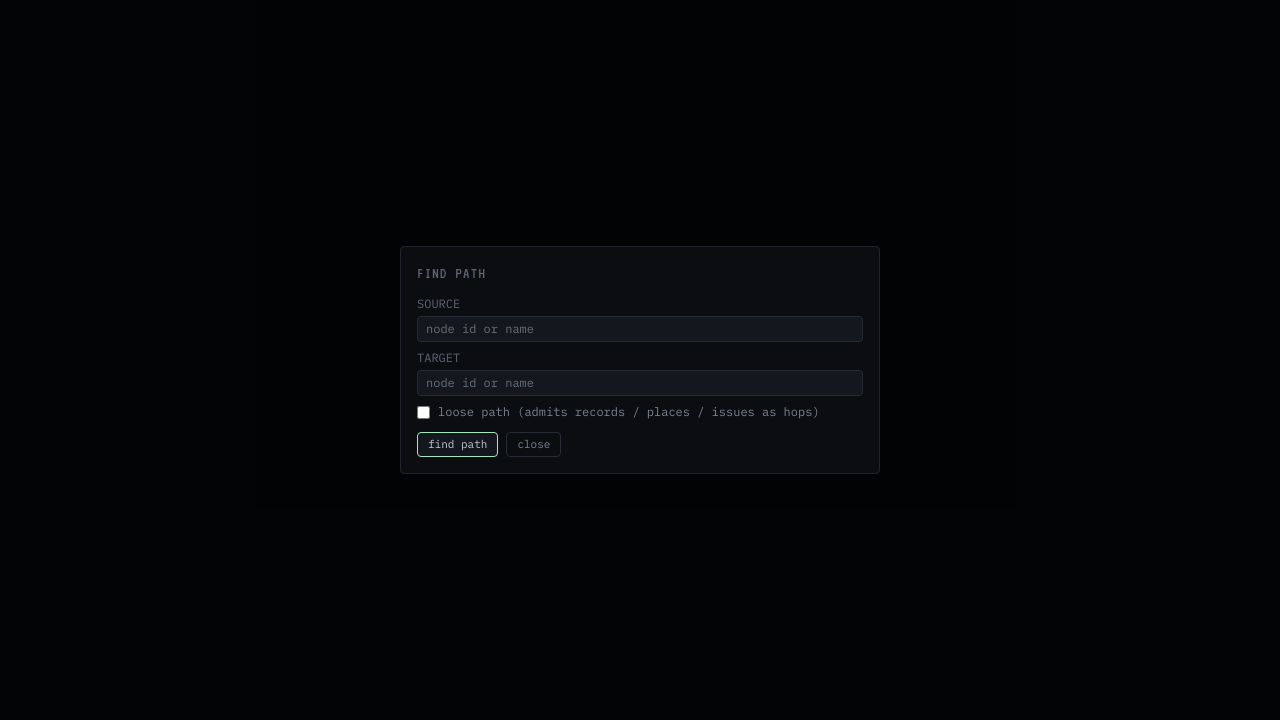
Scenario: PathDialog › shows no-path message when server returns found=false
Type "a" into the field labelled "source" at (640, 329), box [417,316,863,342]
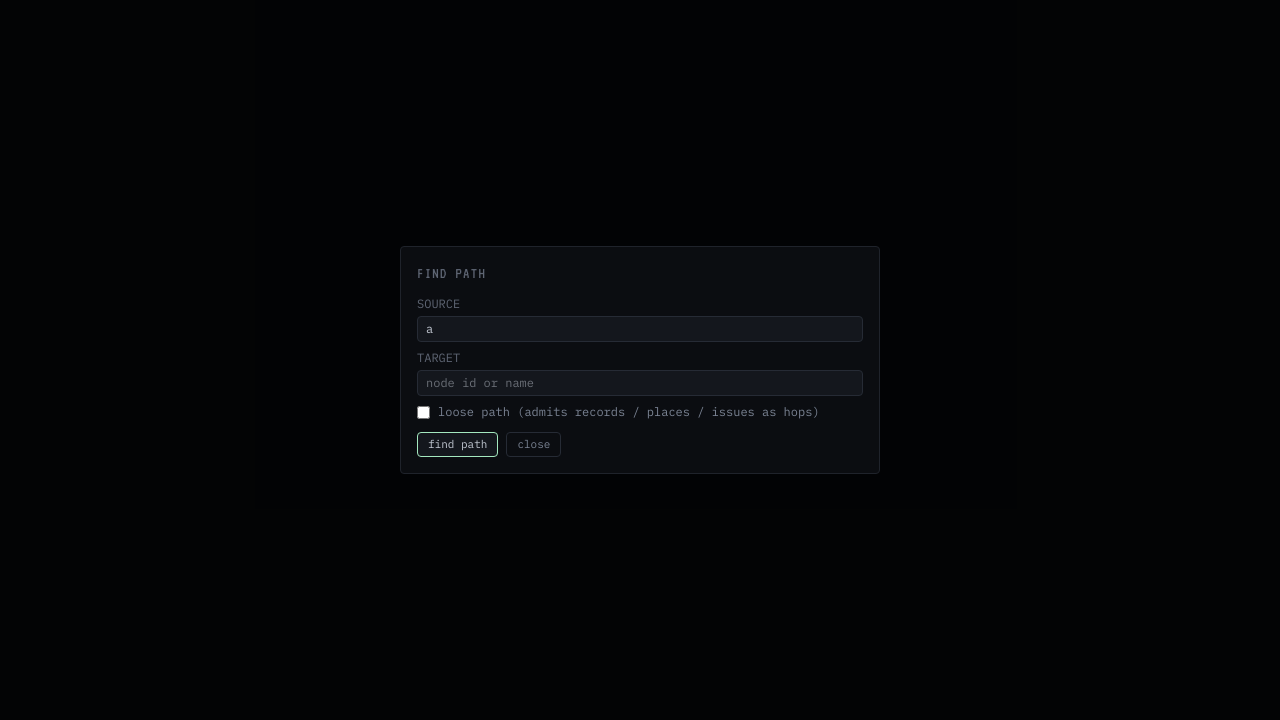
Type "b" into the field labelled "target" at (640, 383), box [417,370,863,396]
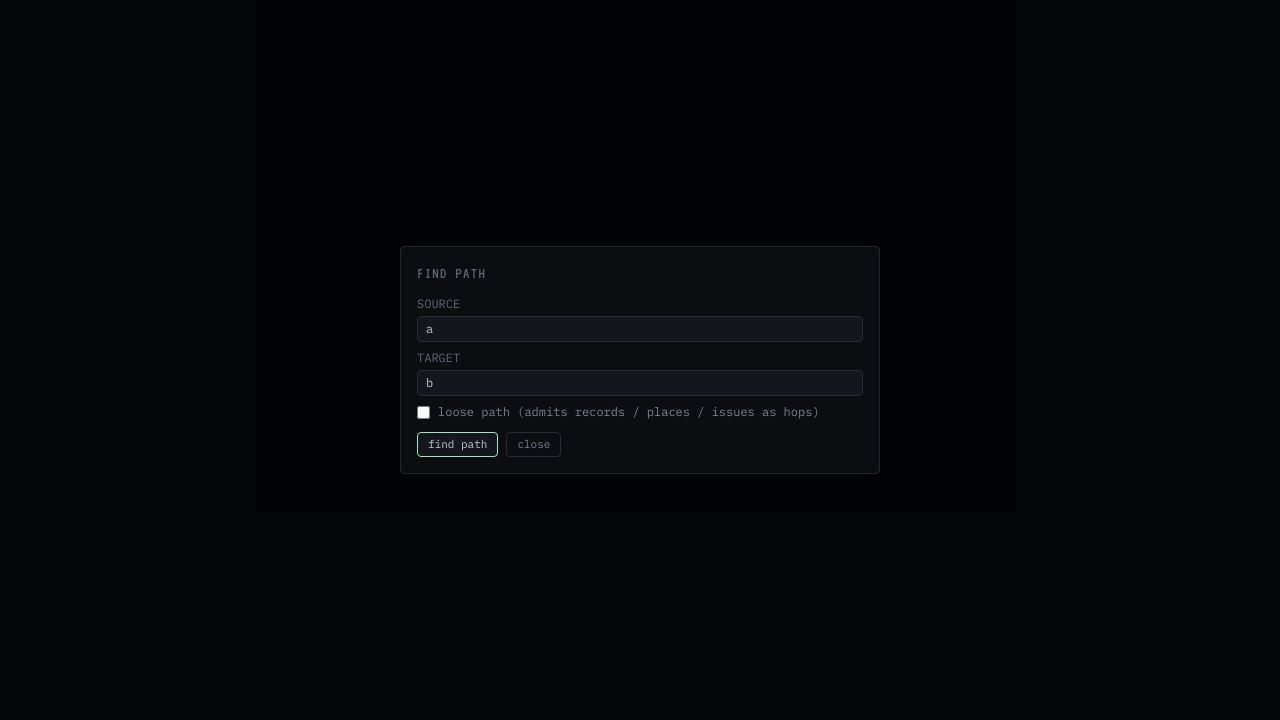
Click the button "find path" at (458, 445), box [417,432,498,457]
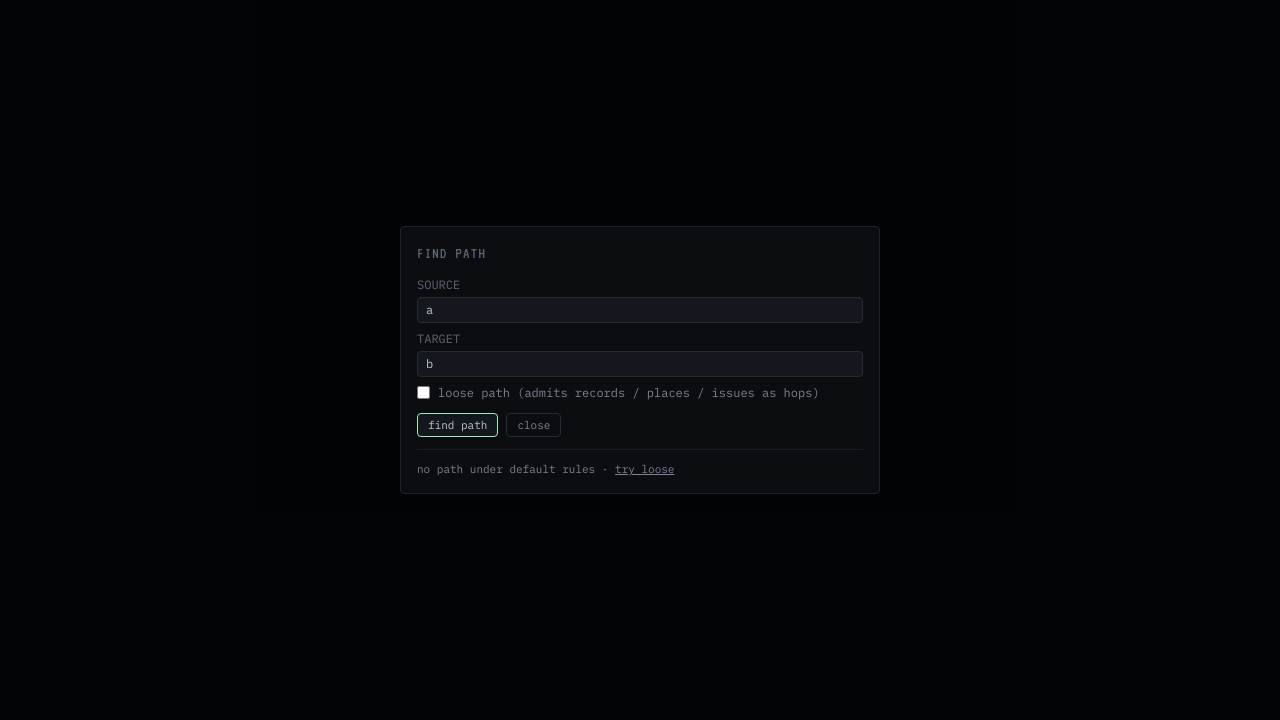
Now the element with test id "path-no-result" is shown, box [417,449,863,477]
